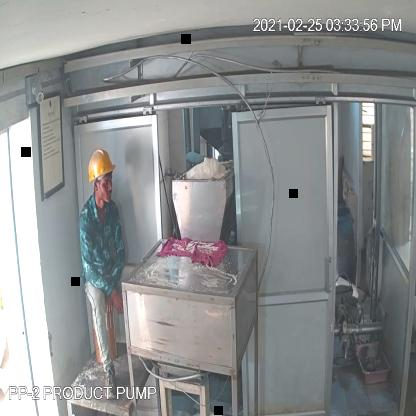helmet: (86, 147, 118, 184)
